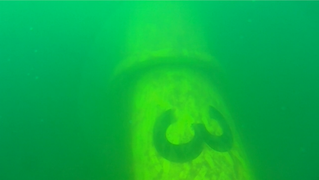3: (152, 103, 233, 163)
pipe: (109, 1, 256, 179)
